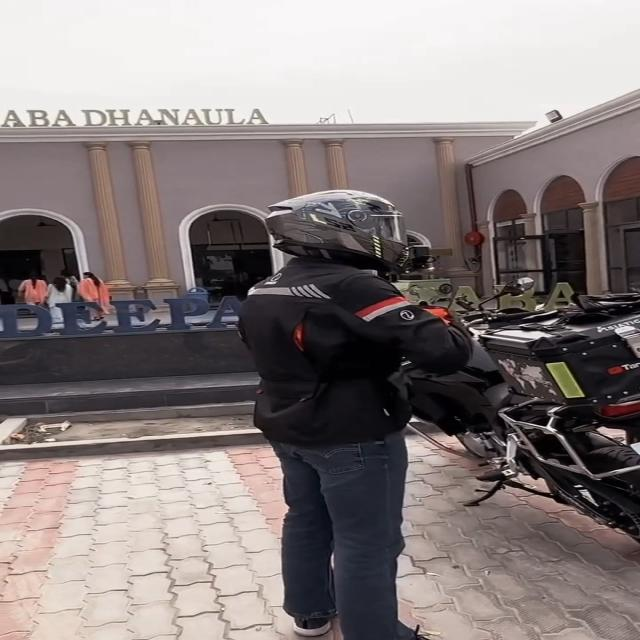Helmet_Wearer: (250, 192, 422, 267)
Jacket_Wearer: (242, 248, 468, 441)
Person: (236, 189, 479, 640)
